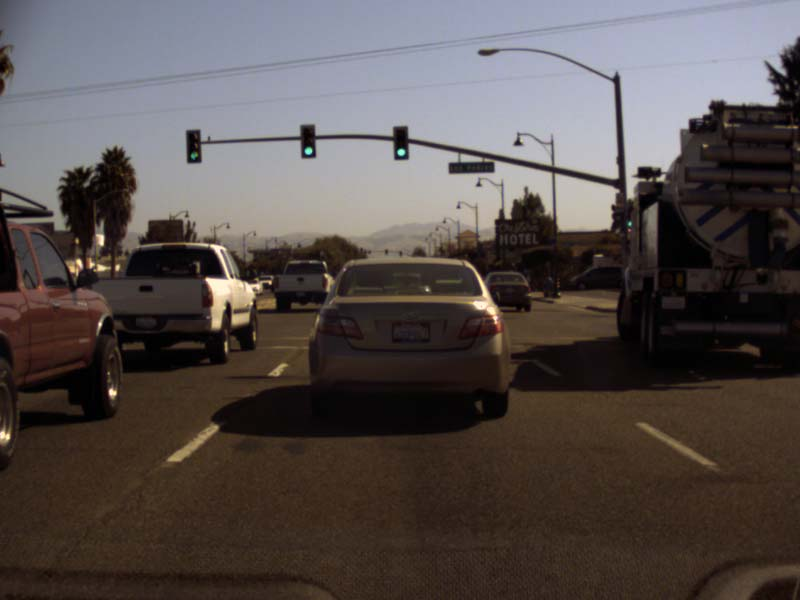Green: (185, 128, 200, 163), (300, 124, 315, 158), (393, 125, 407, 159), (626, 204, 635, 227)
